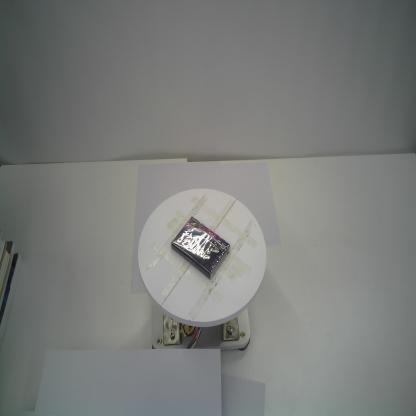Gum: (171, 216, 230, 279)
